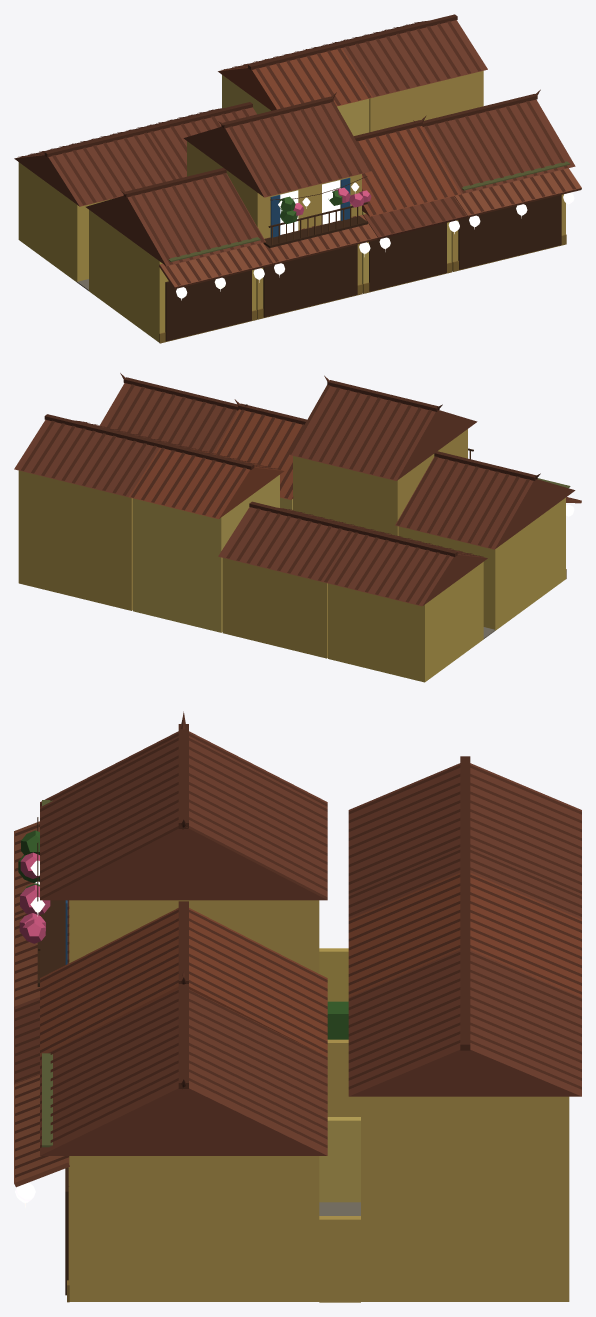
Rendered from hoi_an_shophouses_a.glb.
3 views of the same model, one above another, from view 1: azimuth 30°, elevation 25°; view 2: azimuth 150°, elevation 25°; view 3: azimuth 270°, elevation 25° (orthographic). The views are drawn at different scales.
Parts seen in each view (by area): view 1: HoiAnShophouses_mat0, HoiAnShophouses_LanternGlow; view 2: HoiAnShophouses_mat0; view 3: HoiAnShophouses_mat0.
Boxes of the visible parts, <box> form: HoiAnShophouses_mat0: <box>14,14,581,343</box>; HoiAnShophouses_LanternGlow: <box>176,180,574,300</box>; HoiAnShophouses_mat0: <box>14,373,581,682</box>; HoiAnShophouses_mat0: <box>14,711,581,1302</box>.
Bounding box in the file's own units: 20.68 × 8.28 × 13.62.
